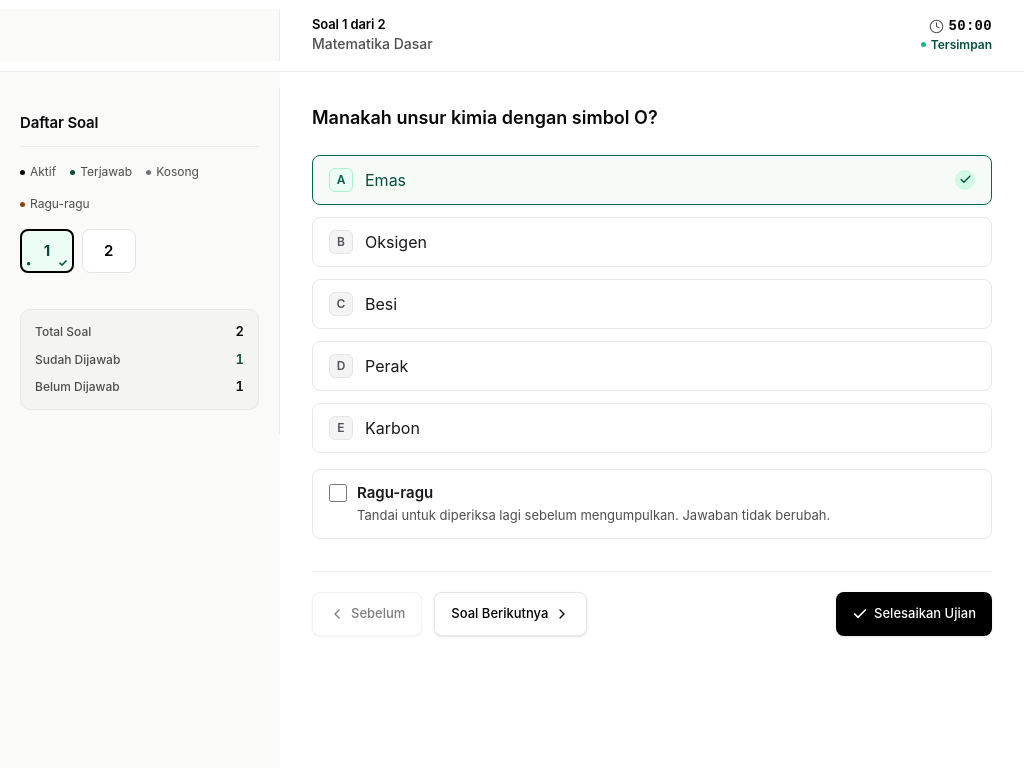
Scenario: BU-081 StudentExamWorkstation Test Suite › 14. bounded stale write reconciliation: retries once with latest version, if second fails marks failed
Expected: the text "Manakah unsur kimia dengan simbol O?" is shown, [312, 104, 658, 130]
Click the radio button labelled "B Oksigen" at (396, 242), box [312, 216, 992, 266]
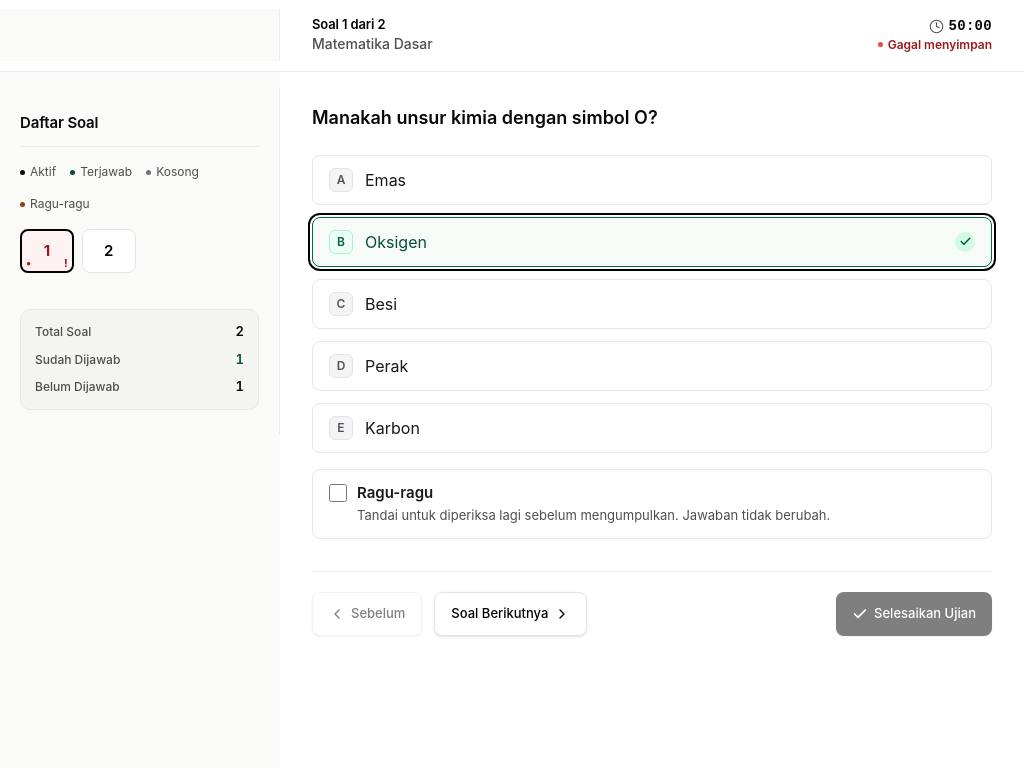
Result: the text "Gagal menyimpan" is shown at [888, 37, 992, 52]
